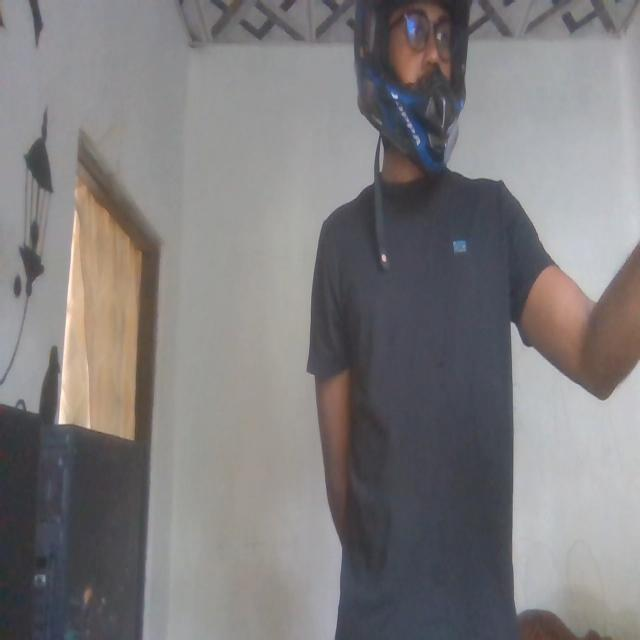Helmet_Wearer: (350, 0, 470, 191)
Person: (309, 0, 640, 640)
